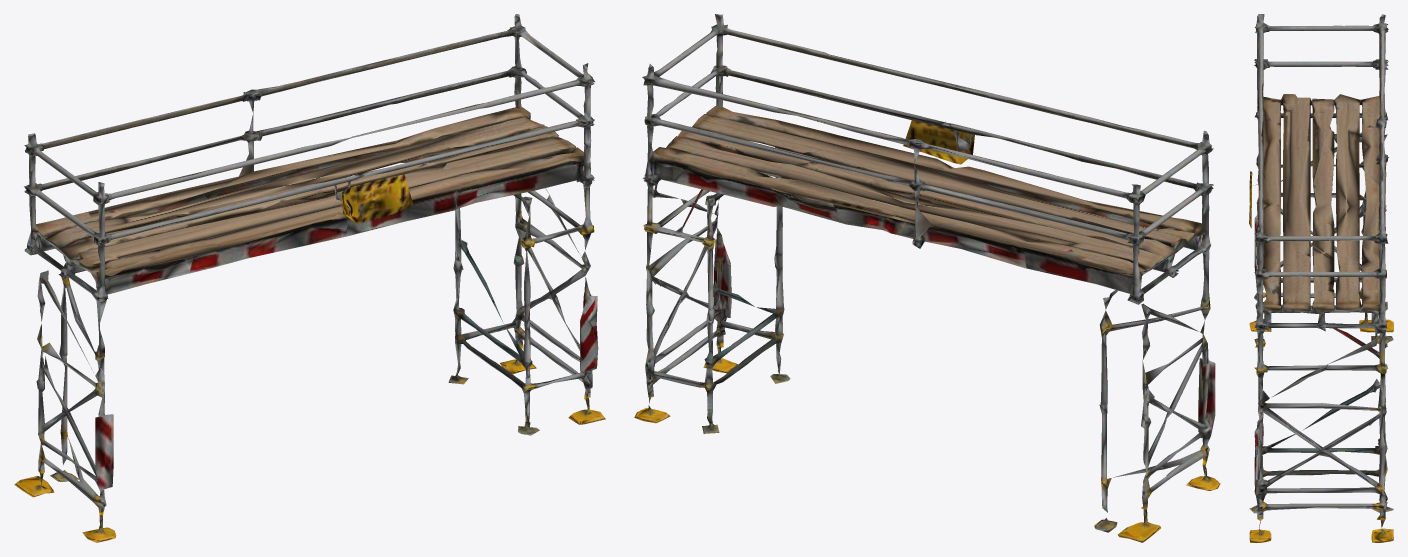
Rendered from veh-d-scaffold.glb.
3 views of the same model, side by side, from view 1: azimuth 30°, elevation 25°; view 2: azimuth 150°, elevation 25°; view 3: azimuth 270°, elevation 25° (orthographic). The views are drawn at different scales.
Parts seen in each view (by area): view 1: tripo_node_bc42e900-c460-49cd-8932-1fbd434dfd1e; view 2: tripo_node_bc42e900-c460-49cd-8932-1fbd434dfd1e; view 3: tripo_node_bc42e900-c460-49cd-8932-1fbd434dfd1e.
Boxes of the visible parts, x1,y1,x2,y2 form: tripo_node_bc42e900-c460-49cd-8932-1fbd434dfd1e: (14, 14, 605, 542); tripo_node_bc42e900-c460-49cd-8932-1fbd434dfd1e: (634, 14, 1220, 542); tripo_node_bc42e900-c460-49cd-8932-1fbd434dfd1e: (1249, 14, 1393, 542).
Size of the model in its own units: 0.9847 by 0.6485 by 0.2721.
Materials: 1 (1 with a texture image).
